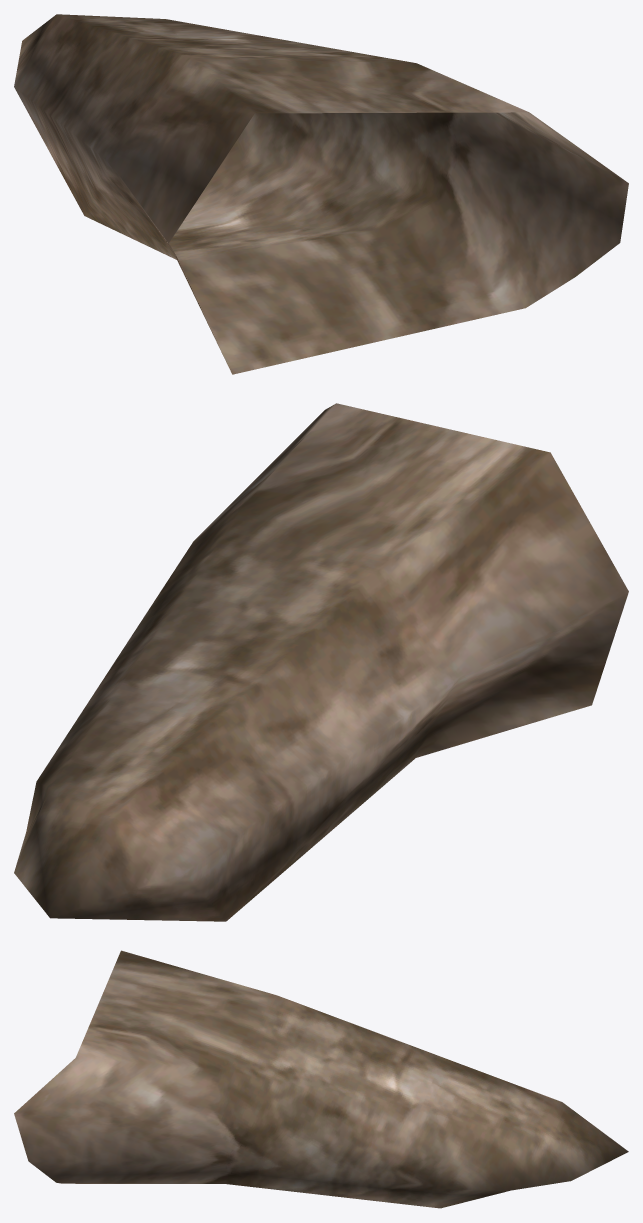
File: OVERHILL_A_01_ROCK04.fbx
3 views of the same model, one above another, from view 1: azimuth 30°, elevation 25°; view 2: azimuth 150°, elevation 25°; view 3: azimuth 270°, elevation 25° (orthographic). The views are drawn at different scales.
Visible parts, largest first — view 1: OVERHILL_A_01_ROCK04; view 2: OVERHILL_A_01_ROCK04; view 3: OVERHILL_A_01_ROCK04.
Part boxes in pixels (x1,y1,x2,y2): OVERHILL_A_01_ROCK04: [14, 14, 628, 374]; OVERHILL_A_01_ROCK04: [14, 403, 628, 921]; OVERHILL_A_01_ROCK04: [14, 950, 628, 1208].
Size of the model in its own units: 36926 by 27748 by 73564.
Materials: 1 (1 with a texture image).
